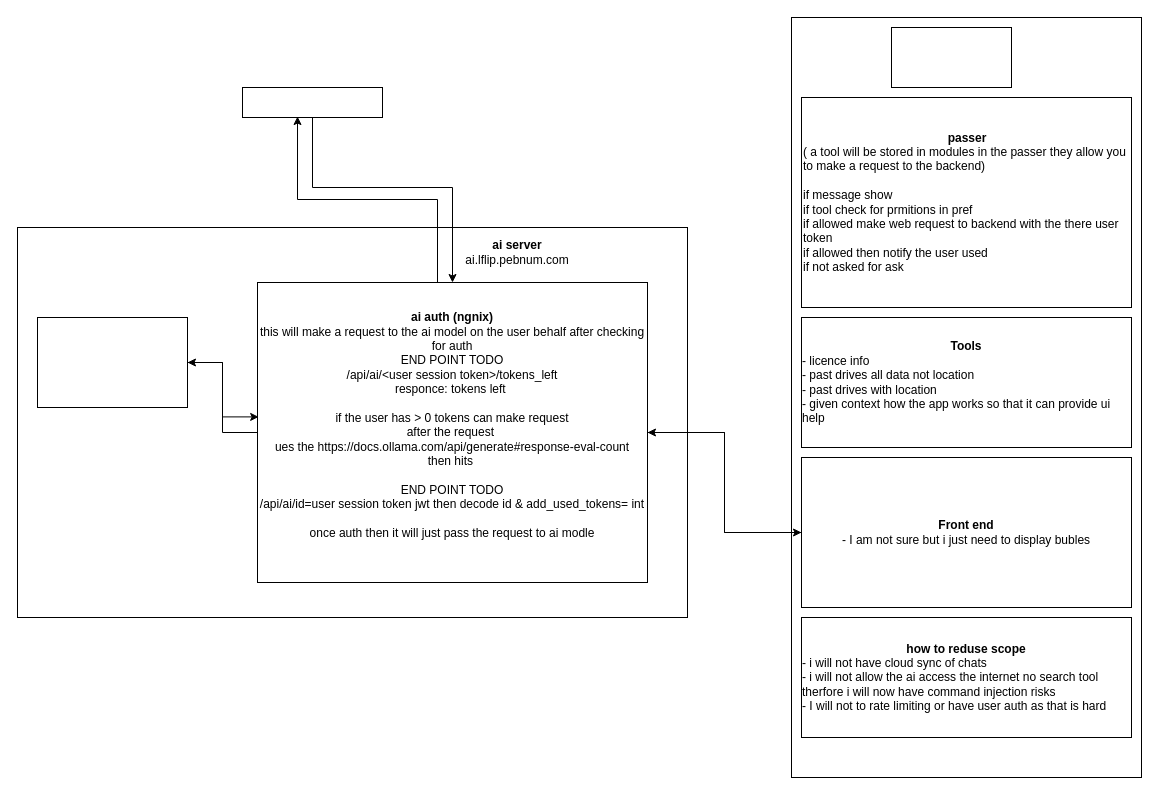
Image size: 1159x795. Some labels were removed from this diagram. Each missing label, with the centre of its shape:
"ai model just a ollama rest api not protected" belongs at point (112, 362).
"api.lflip.pebnum.com" belongs at point (312, 102).
"user running local ie (native app) or app.lflip.pebnum.com" belongs at point (951, 57).
